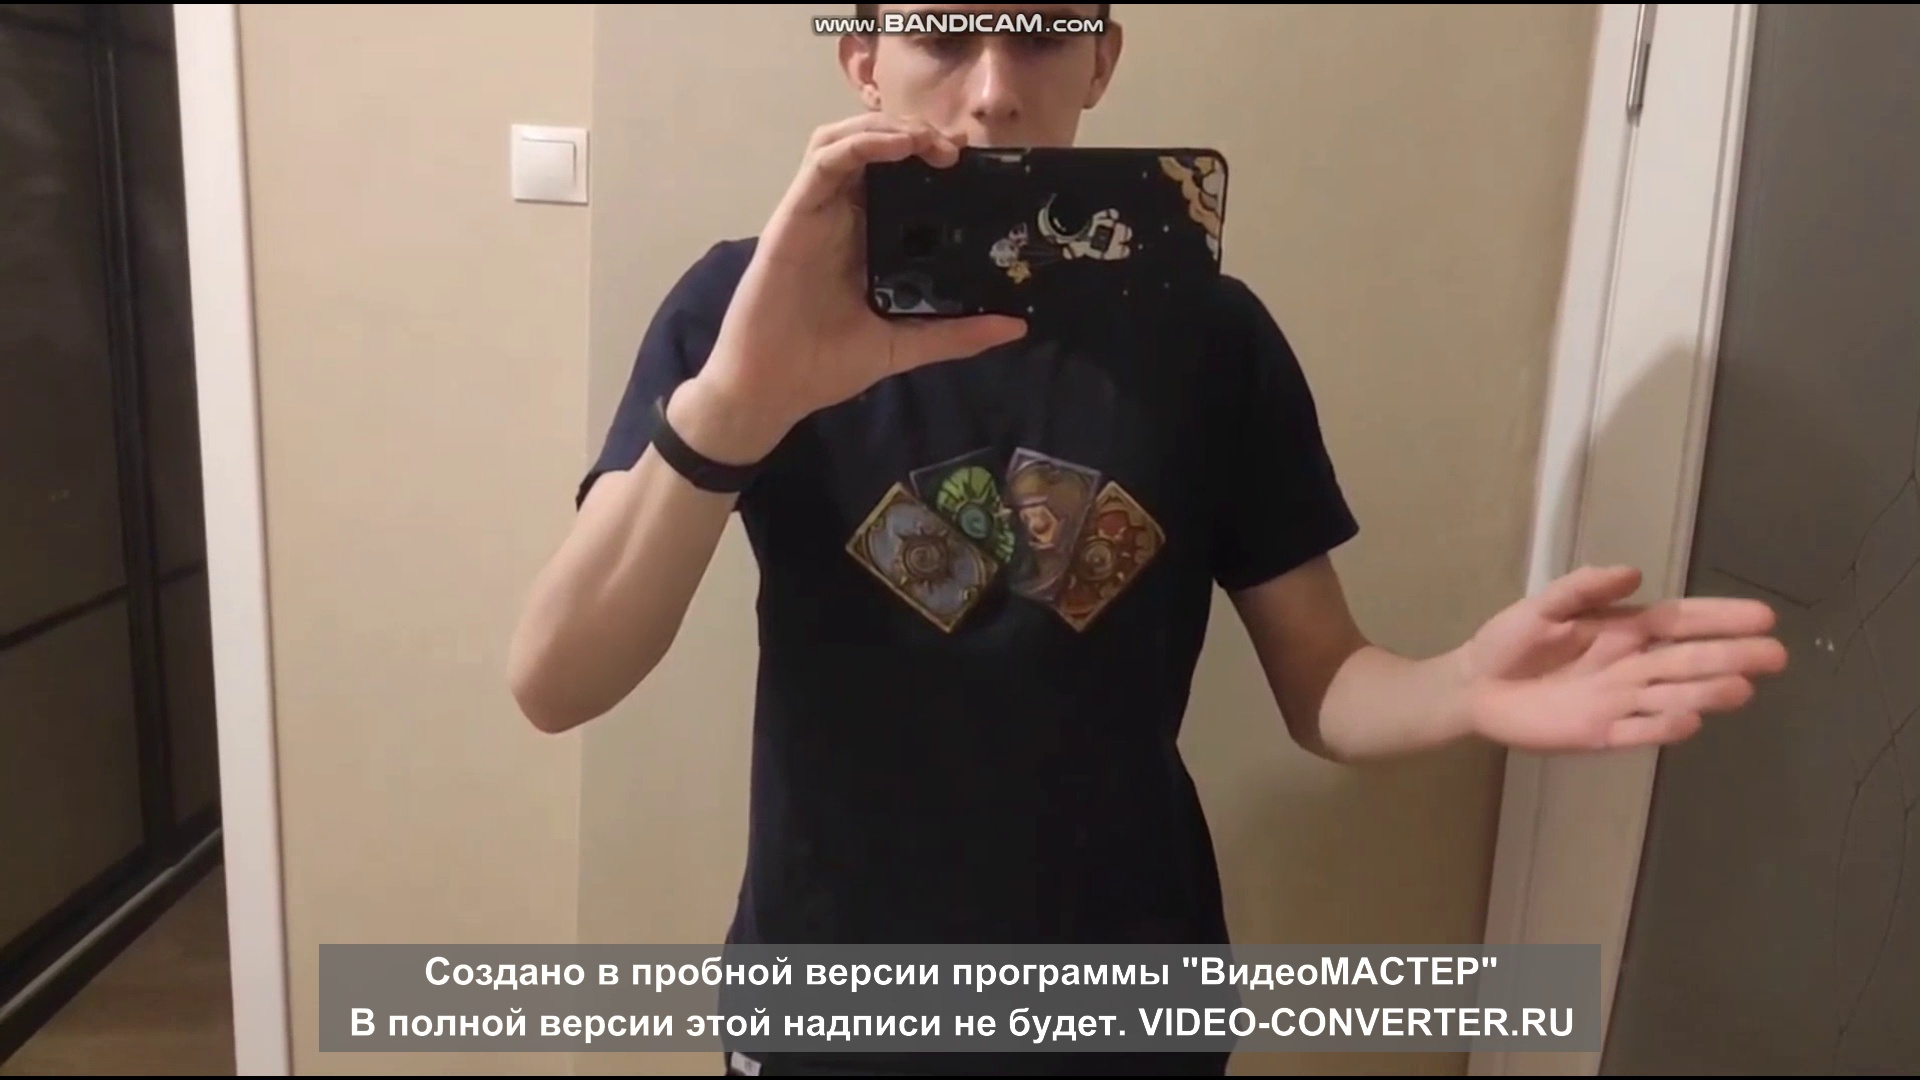Ладонь: (1474, 564, 1787, 748)
